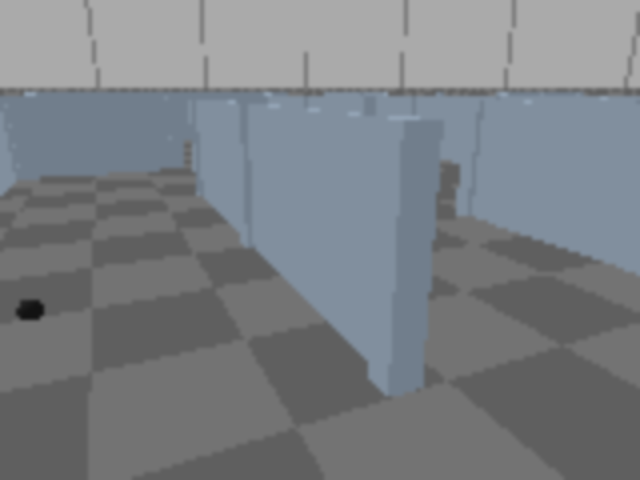puck: (9, 293, 51, 328)
